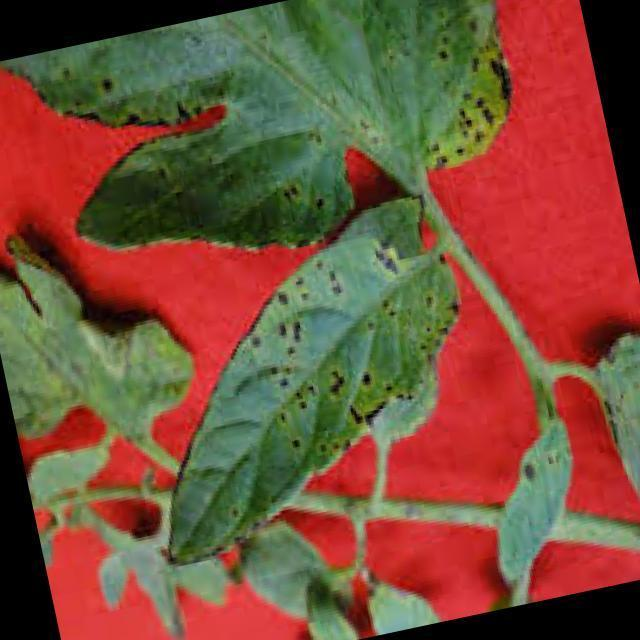Bacterial Spot: (194, 219, 500, 474), (394, 36, 541, 172)
